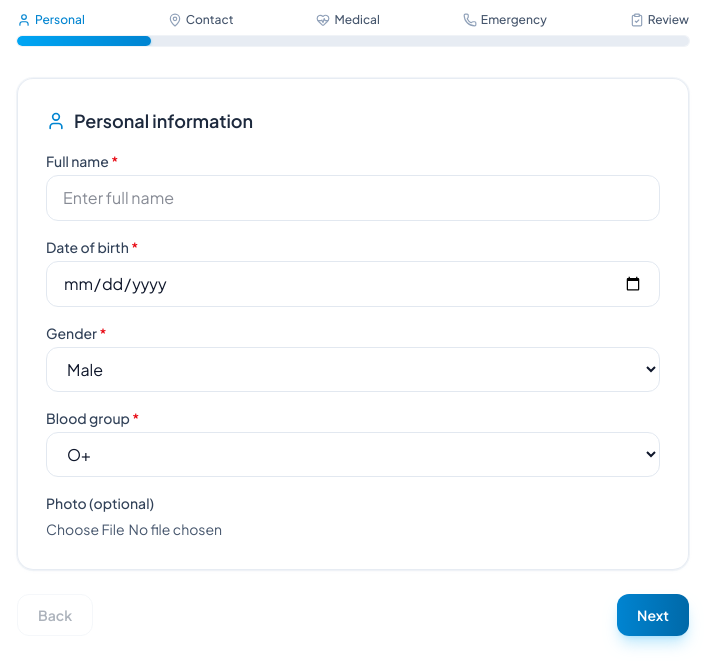
Test: PatientRegistrationForm › advances to contact step when step 1 is valid
Type "Jane Doe" into the field labelled "Full name *" at (353, 198), box [46,175,660,221]
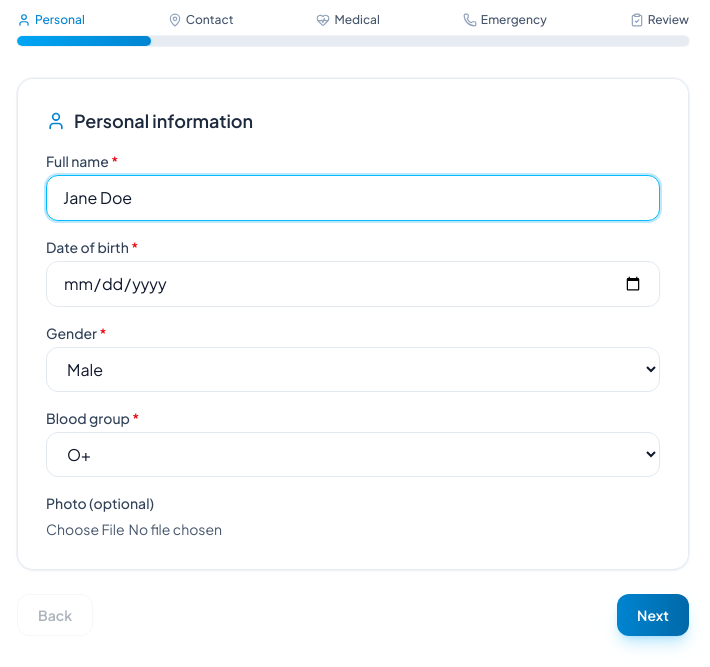
Type "1990-06-15" into the date field labelled "Date of birth *" at (353, 284), box [46,261,660,307]
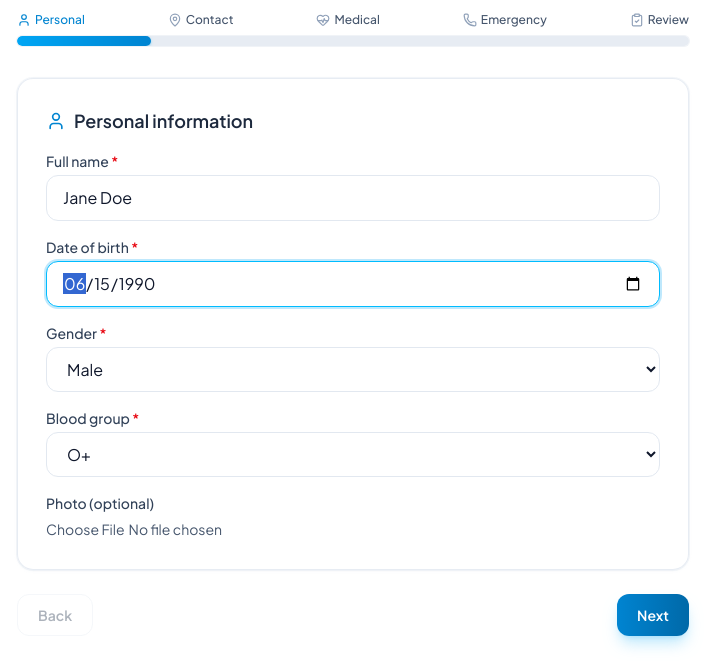
Select "A+" in the dropdown labelled "Blood group *" at (353, 454), box [46,432,660,477]
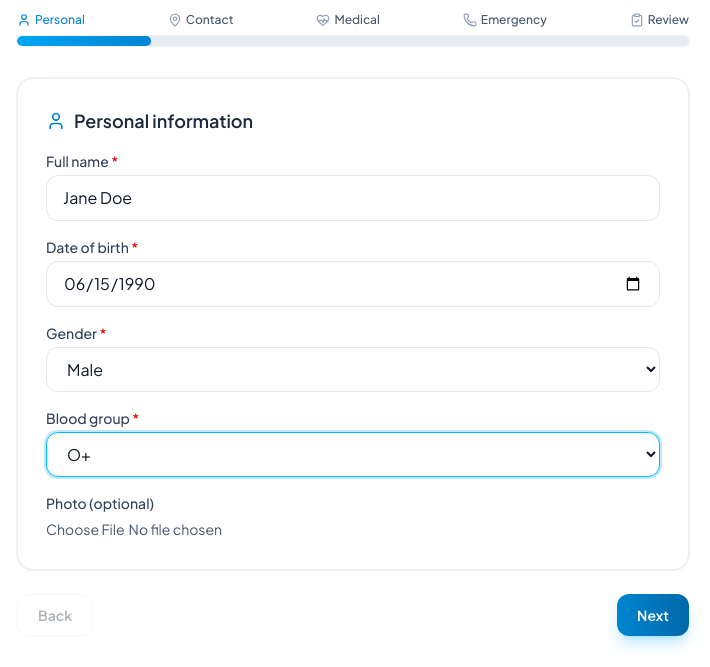
Click the button "Next" at (653, 615), box [617,594,689,636]
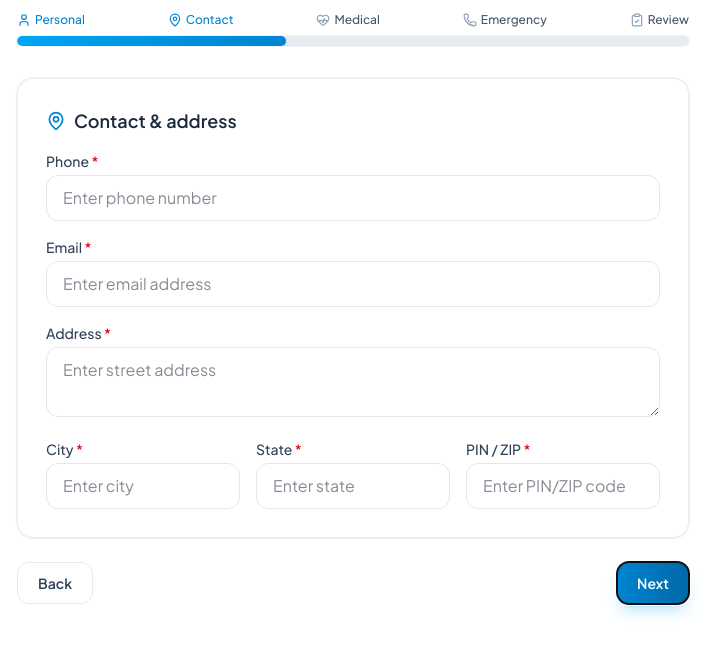
Now the heading "Contact & address" is shown, box [46,109,237,132]
